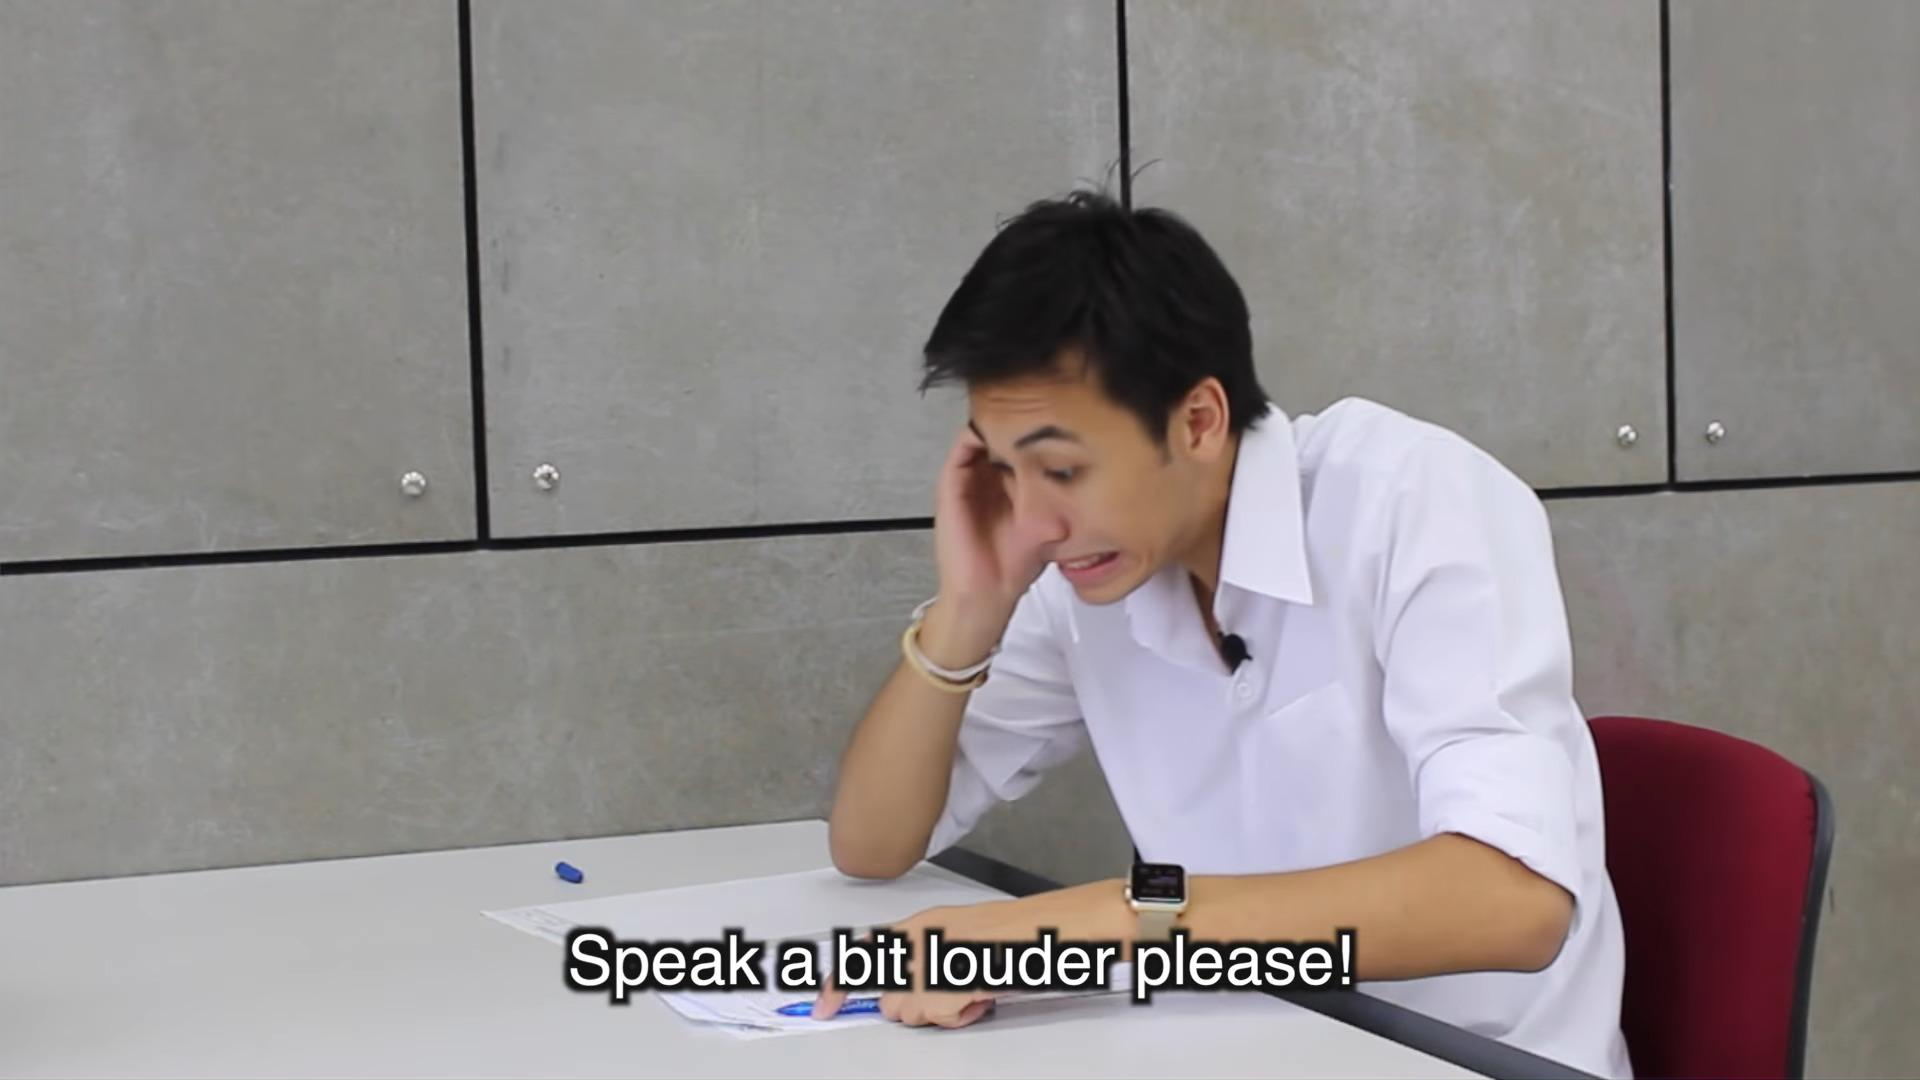cheating: (438, 170, 1665, 922)
